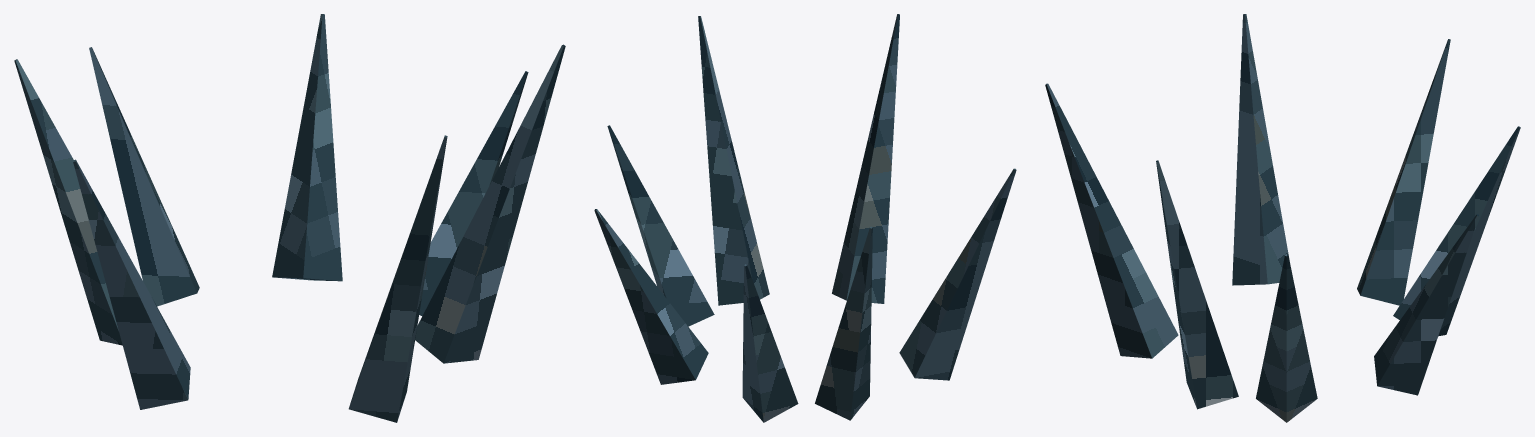
Rendered from enfeite_capim.fbx.
3 renders of one model, left to right at view 1: azimuth 30°, elevation 25°; view 2: azimuth 150°, elevation 25°; view 3: azimuth 270°, elevation 25°, orthographic. The views are drawn at different scales.
Parts seen in each view (by area): view 1: neve_enfeite_capim; view 2: neve_enfeite_capim; view 3: neve_enfeite_capim.
Part boxes in pixels (left/top/right/bottom): neve_enfeite_capim: left=14, top=14, right=565, bottom=422; neve_enfeite_capim: left=594, top=14, right=1016, bottom=422; neve_enfeite_capim: left=1045, top=14, right=1520, bottom=422.
Size of the model in its own units: 27.97 by 17.84 by 27.65.
1 material, 1 textured.
